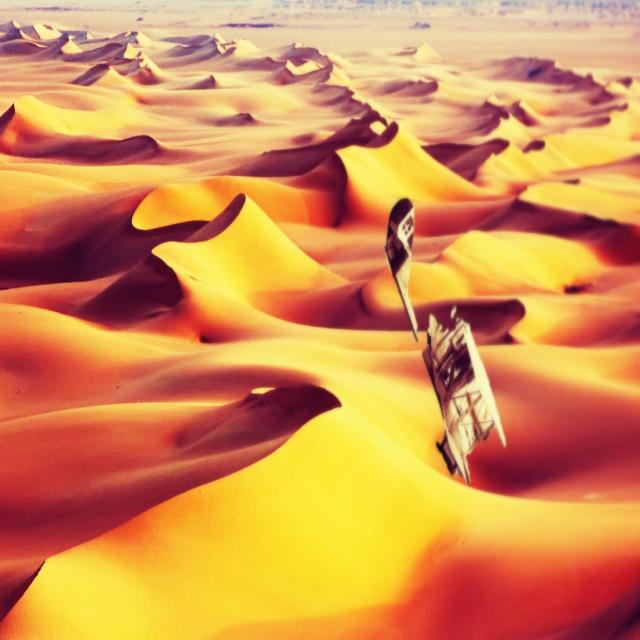airplane: (384, 198, 506, 487)
